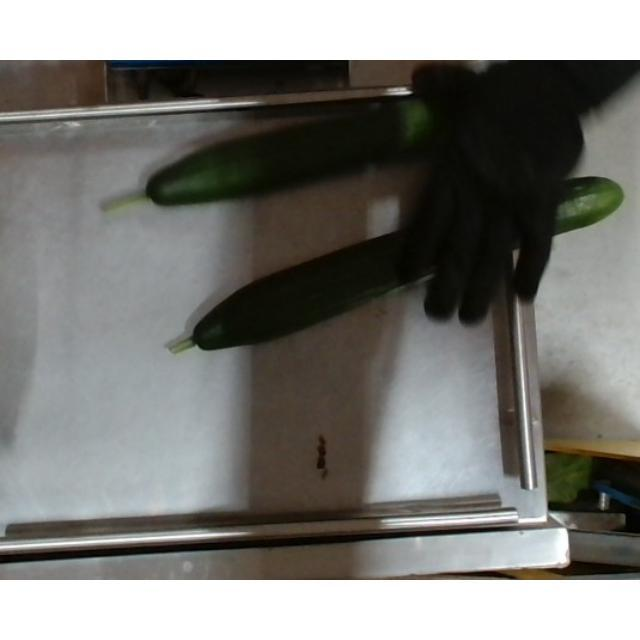cucumber: (139, 174, 637, 358), (97, 104, 521, 214)
